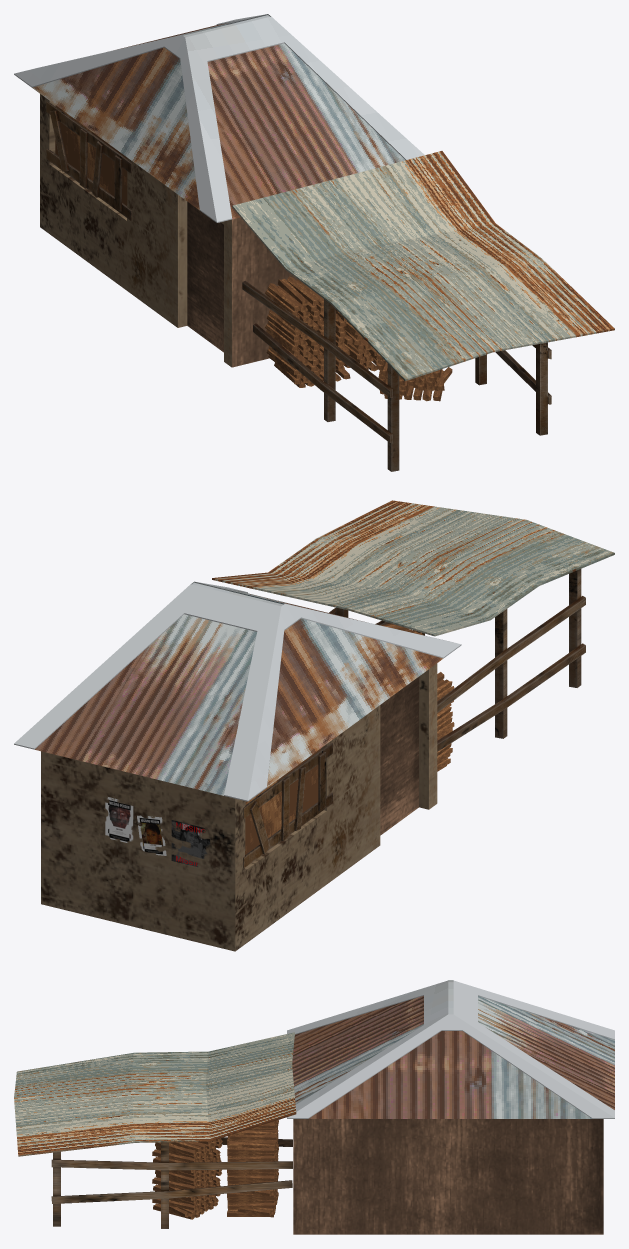
Rendered from small-house-2.glb.
3 renders of one model, top to bottom at view 1: azimuth 30°, elevation 25°; view 2: azimuth 150°, elevation 25°; view 3: azimuth 270°, elevation 25°, orthographic. The views are drawn at different scales.
Visible parts, largest first — view 1: roof-col, roof, main-col, supports-col, wood-col.002, window-supports, wood-col.001, wood-col; view 2: roof, main-col, roof-col, supports-col, window-supports, Aaron, Ian Missing Poster 2, wood-col.002, lloyd; view 3: roof, main-col, roof-col, supports-col, wood-col, wood-col.001.
Boxes of the visible parts, left/top/right/bottom form: roof-col: left=232, top=151, right=614, bottom=381; roof: left=14, top=14, right=424, bottom=222; main-col: left=40, top=94, right=297, bottom=367; supports-col: left=242, top=280, right=551, bottom=471; wood-col.002: left=265, top=276, right=353, bottom=387; window-supports: left=46, top=101, right=131, bottom=220; wood-col.001: left=376, top=352, right=452, bottom=401; wood-col: left=344, top=321, right=378, bottom=371; roof: left=14, top=581, right=461, bottom=801; main-col: left=41, top=663, right=437, bottom=951; roof-col: left=212, top=500, right=614, bottom=636; supports-col: left=329, top=569, right=585, bottom=751; window-supports: left=243, top=743, right=332, bottom=868; Aaron: left=171, top=820, right=210, bottom=867; Ian Missing Poster 2: left=105, top=797, right=133, bottom=842; wood-col.002: left=437, top=672, right=454, bottom=771; lloyd: left=137, top=815, right=166, bottom=855; roof: left=287, top=980, right=614, bottom=1118; main-col: left=293, top=1119, right=603, bottom=1234; roof-col: left=14, top=1032, right=296, bottom=1156; supports-col: left=51, top=1137, right=292, bottom=1228; wood-col: left=227, top=1129, right=278, bottom=1217; wood-col.001: left=152, top=1138, right=222, bottom=1219.
Size of the model in its own units: 8.18 by 8.37 by 22.7.
Materials: 11 (11 with a texture image).
